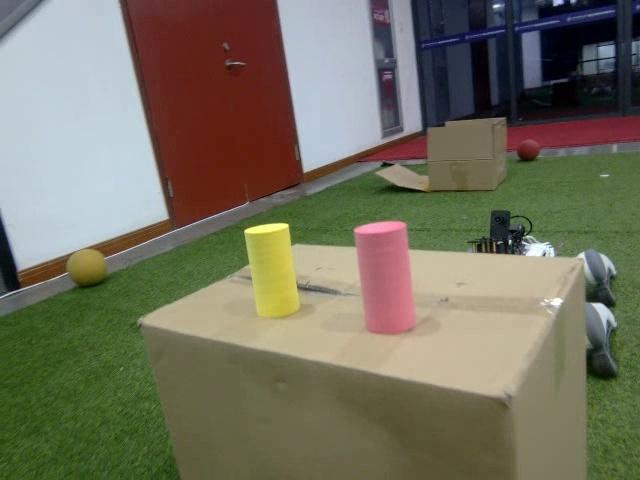red_ball: (515, 138, 543, 163)
red_cylinder: (349, 218, 422, 336)
yellow_ball: (64, 246, 108, 290)
yellow_cylinder: (245, 220, 306, 320)
